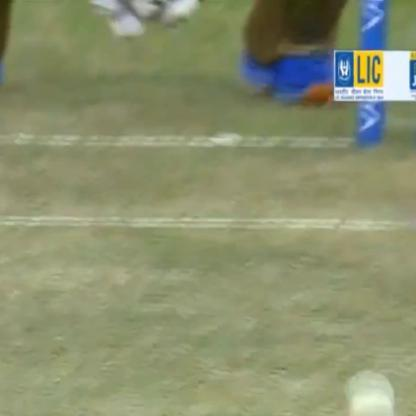ball: (324, 396, 410, 415), (335, 372, 398, 394)
